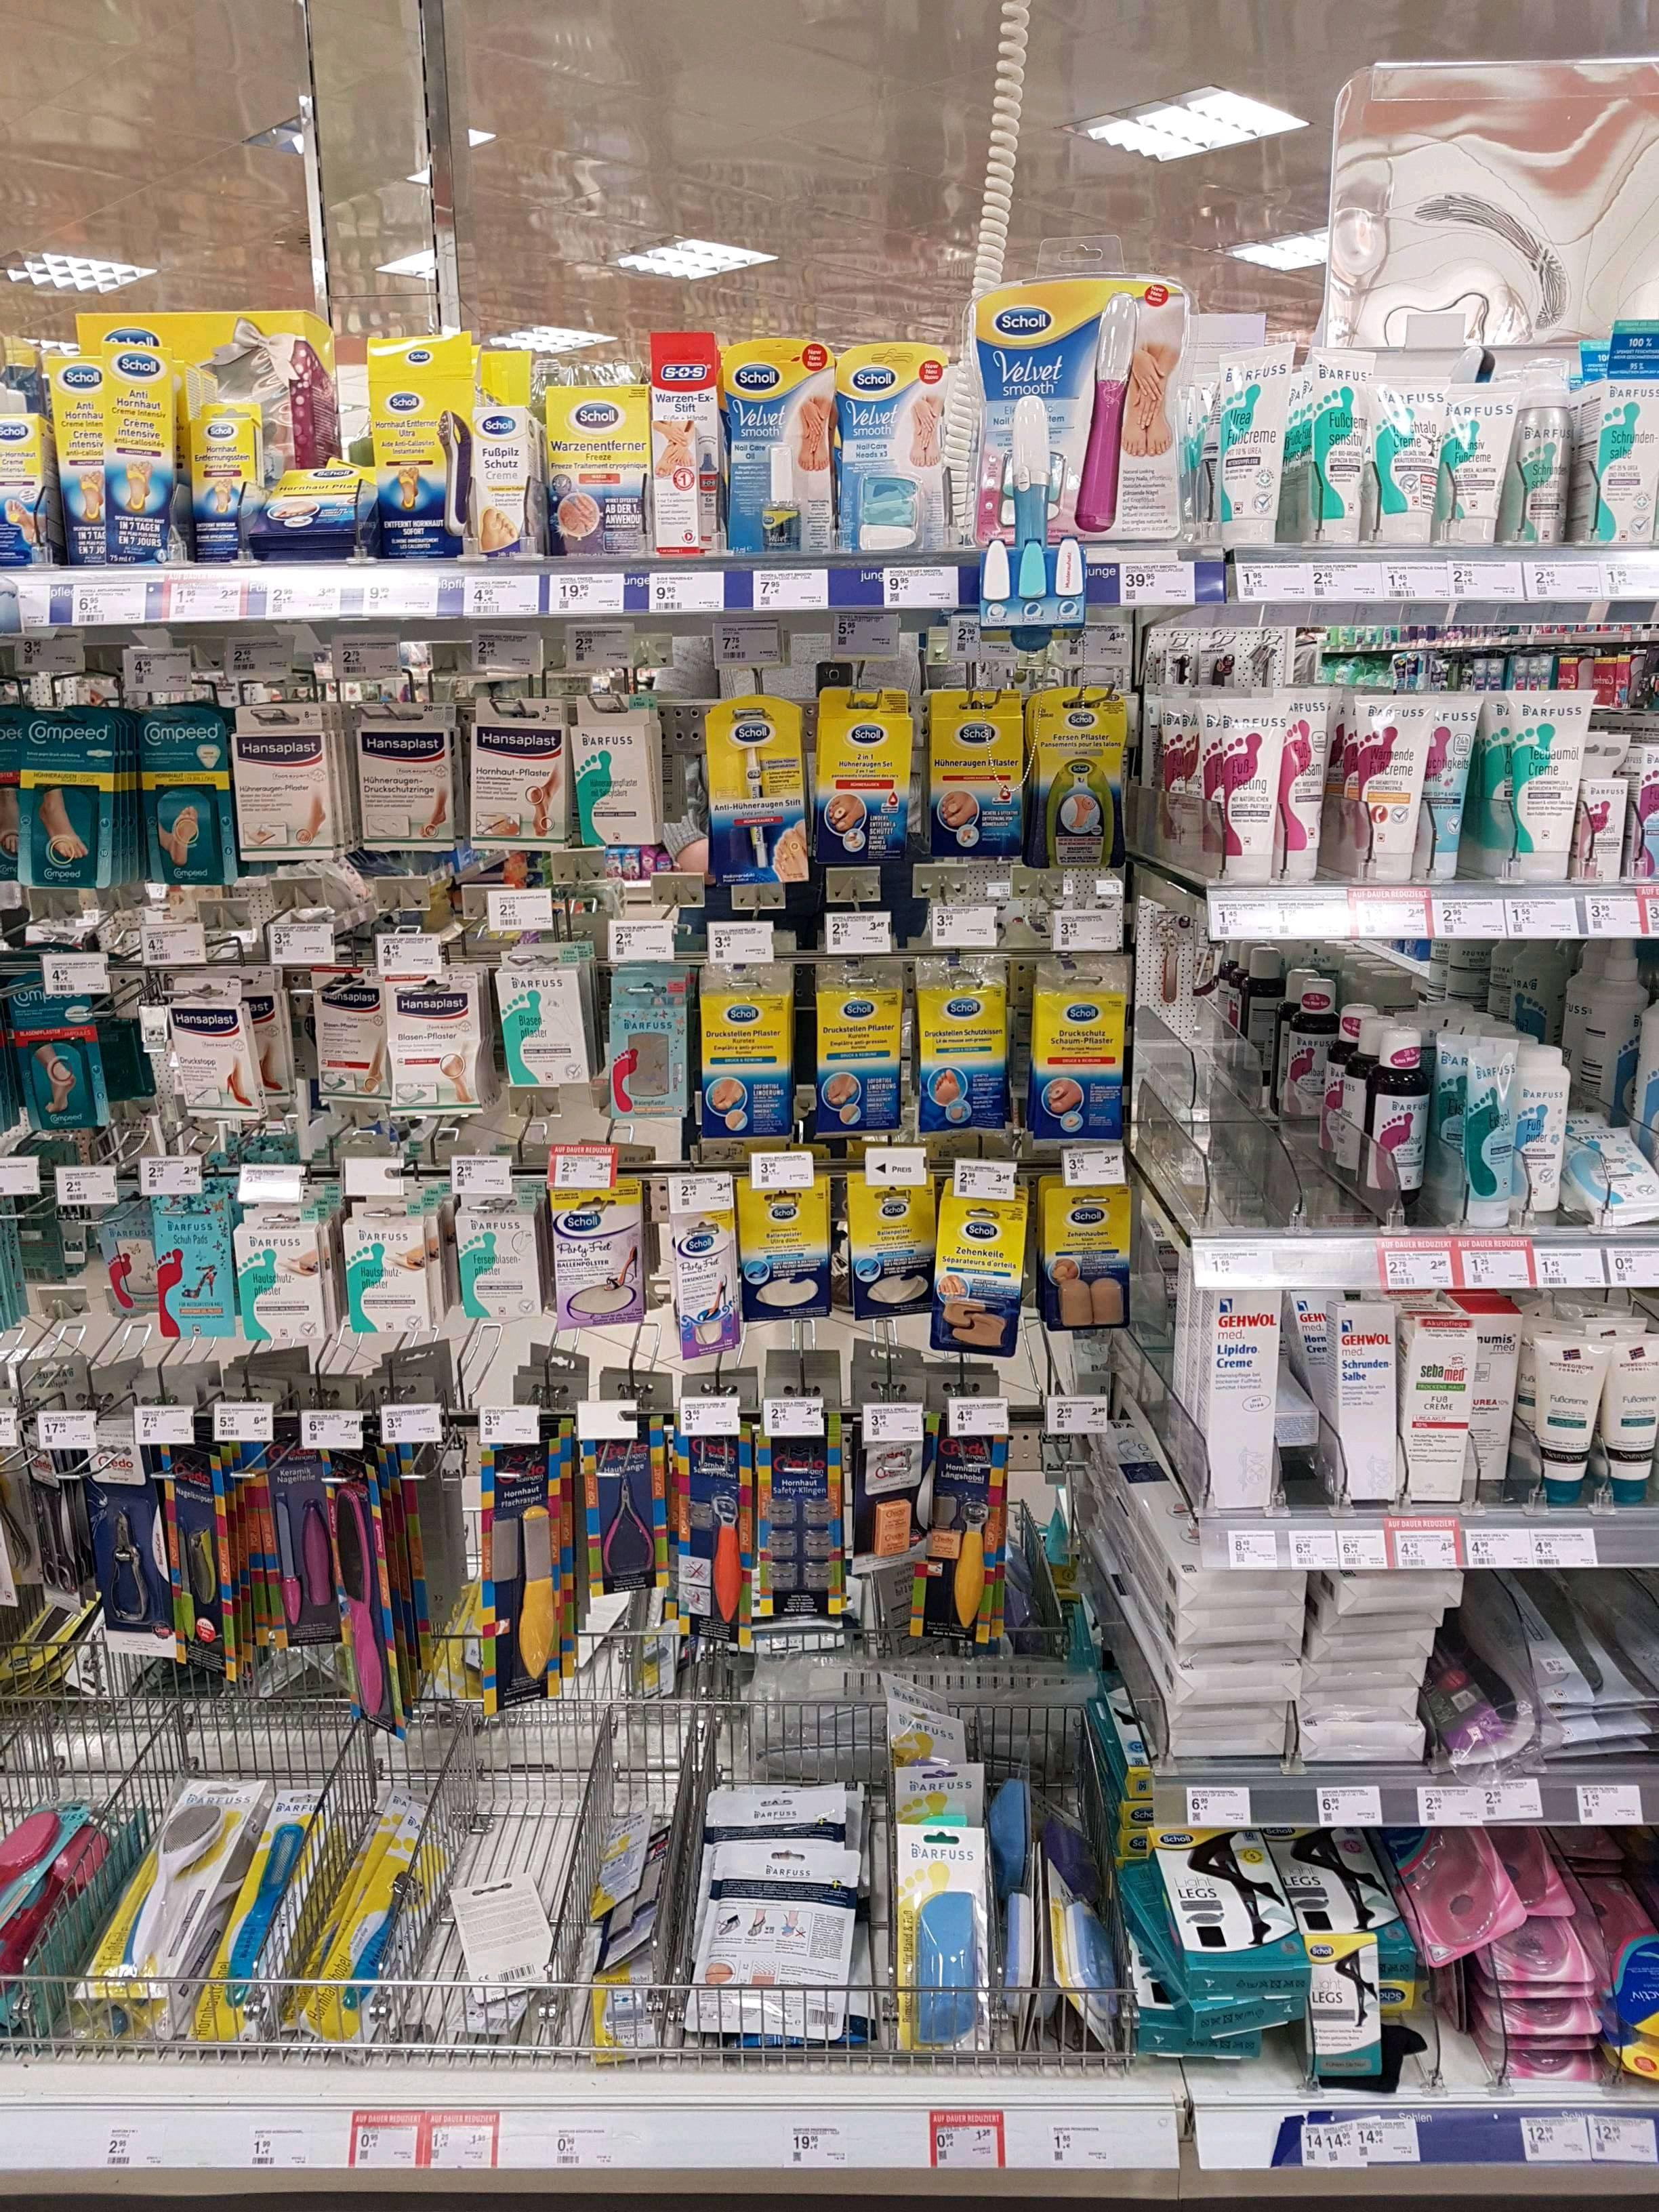empty: (1187, 1008, 1276, 1224), (1021, 1442, 1100, 1620)
misalignment: (997, 1756, 1103, 2013), (1396, 1831, 1534, 1961), (444, 1864, 561, 2013), (1305, 1933, 1389, 2073)
